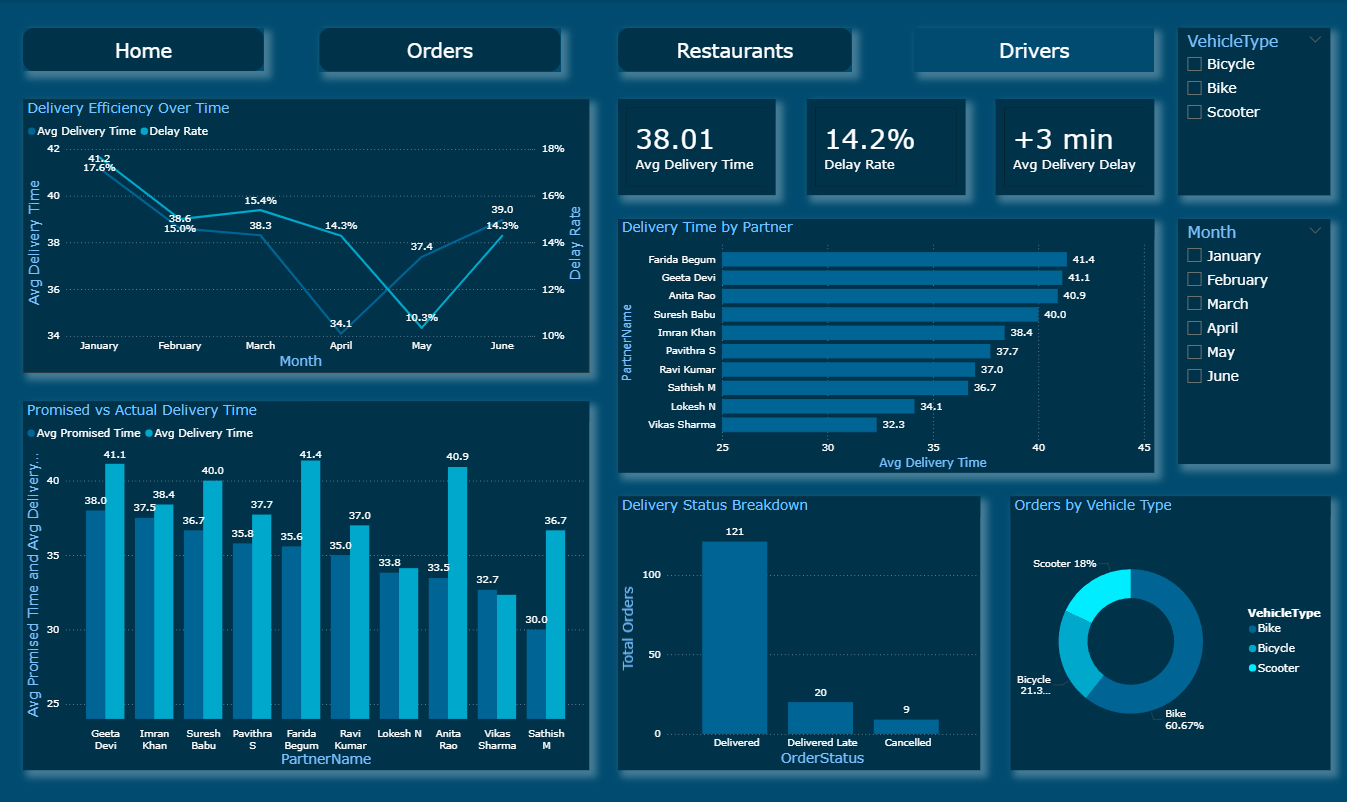

The dashboard page shown, as its layout file describes it:
{"tool":"powerbi","page":{"name":"Drivers","canvas":[1850,1100],"ordinal":3},"visuals":[{"type":"actionButton","box":[34.1,39.7,328.6,59.4],"z":0},{"type":"actionButton","box":[438.4,39.2,329.3,59.7],"z":1000},{"type":"actionButton","box":[846.2,39.2,319,59.7],"z":2000},{"type":"actionButton","box":[1250.5,39.2,327.5,59.7],"z":3000},{"type":"cardVisual","fields":{"Data":["Orders.Avg Delivery Time"]},"box":[846.2,136.5,215,131.4],"z":4000},{"type":"cardVisual","fields":{"Data":["Orders.Delay Rate"]},"box":[1103.8,136.5,216.7,131.4],"z":5000},{"type":"cardVisual","fields":{"Data":["Orders.Avg Delivery Delay"]},"box":[1361.4,136.5,216.7,131.4],"z":6000},{"type":"barChart","title":"Delivery Time by Partner","fields":{"Category":["DeliveryPartners.PartnerName"],"Y":["Orders.Avg Delivery Time"]},"box":[846.2,300.2,731.9,346.3],"z":7000},{"type":"clusteredColumnChart","title":"Delivery Status Breakdown","fields":{"Category":["Orders.OrderStatus"],"Y":["Orders.Total Orders"]},"box":[846.2,679,494.7,373.6],"z":8000},{"type":"lineChart","title":"Delivery Efficiency Over Time","fields":{"Category":["DateTable.Year Hierarchy.Month"],"Y":["Orders.Avg Delivery Time"],"Y2":["Orders.Delay Rate"]},"box":[34.1,136.5,772.8,373.6],"z":9000},{"type":"donutChart","title":"Orders by Vehicle Type","fields":{"Y":["Orders.Total Orders"],"Category":["DeliveryPartners.VehicleType"]},"box":[1381.8,679,436.7,373.6],"z":10000},{"type":"clusteredColumnChart","title":"Promised vs Actual Delivery Time","fields":{"Category":["DeliveryPartners.PartnerName"],"Y":["Orders.Avg Promised Time","Orders.Avg Delivery Time"]},"box":[34.1,549.3,772.8,503.3],"z":11000},{"type":"slicer","fields":{"Values":["DeliveryPartners.VehicleType"]},"box":[1610.4,39.2,208.1,228.6],"z":12000},{"type":"slicer","fields":{"Values":["DateTable.Month"]},"box":[1610.4,300.2,208.1,334.4],"z":13000}]}

Visuals, with their boxes in screenshot pixels (x1, y1, x2, y2), scaled from the page's 1850x1100 canvas onto the 1347x802 screenshot:
actionButton: [x1=25, y1=29, x2=264, y2=72]
actionButton: [x1=319, y1=29, x2=559, y2=72]
actionButton: [x1=616, y1=29, x2=848, y2=72]
actionButton: [x1=910, y1=29, x2=1149, y2=72]
cardVisual - Orders.Avg Delivery Time: [x1=616, y1=100, x2=773, y2=195]
cardVisual - Orders.Delay Rate: [x1=804, y1=100, x2=961, y2=195]
cardVisual - Orders.Avg Delivery Delay: [x1=991, y1=100, x2=1149, y2=195]
"Delivery Time by Partner" barChart: [x1=616, y1=219, x2=1149, y2=471]
"Delivery Status Breakdown" clusteredColumnChart: [x1=616, y1=495, x2=976, y2=767]
"Delivery Efficiency Over Time" lineChart: [x1=25, y1=100, x2=588, y2=372]
"Orders by Vehicle Type" donutChart: [x1=1006, y1=495, x2=1324, y2=767]
"Promised vs Actual Delivery Time" clusteredColumnChart: [x1=25, y1=400, x2=588, y2=767]
slicer - DeliveryPartners.VehicleType: [x1=1173, y1=29, x2=1324, y2=195]
slicer - DateTable.Month: [x1=1173, y1=219, x2=1324, y2=463]
